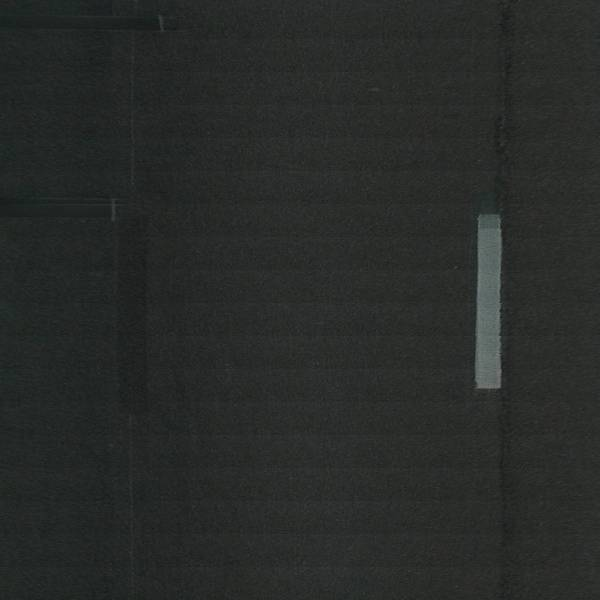road_damage: (493, 1, 520, 210), (1, 10, 174, 38), (496, 404, 518, 600), (1, 194, 122, 221)
